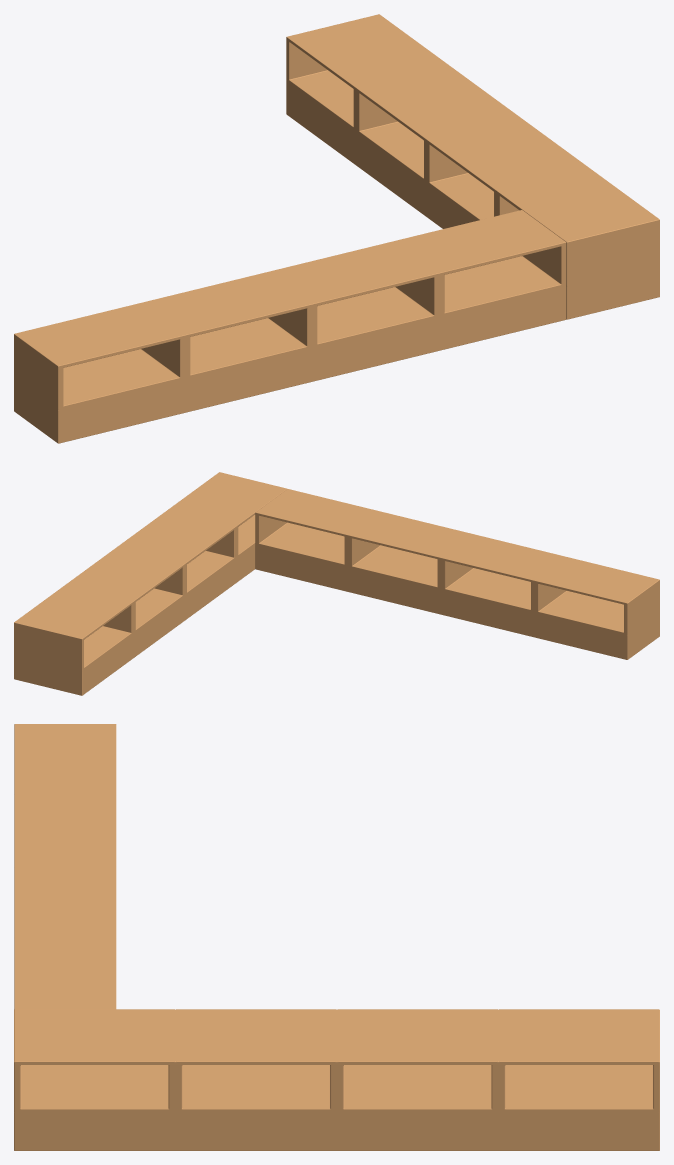
Rendered from 收银台.fbx.
3 renders of one model, top to bottom at view 1: azimuth 30°, elevation 25°; view 2: azimuth 150°, elevation 25°; view 3: azimuth 270°, elevation 25°, orthographic. The views are drawn at different scales.
Parts seen in each view (by area): view 1: Cube.011; view 2: Cube.011; view 3: Cube.011.
Boxes of the visible parts, <box> form: Cube.011: <box>14,14,659,443</box>; Cube.011: <box>14,472,659,695</box>; Cube.011: <box>14,724,659,1150</box>.
Size of the model in its own units: 802 by 98.99 by 648.
